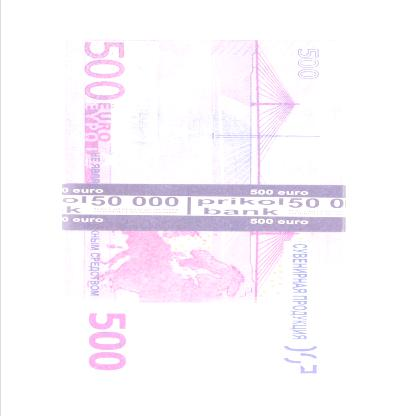euro_banknote: (14, 78, 375, 346)
